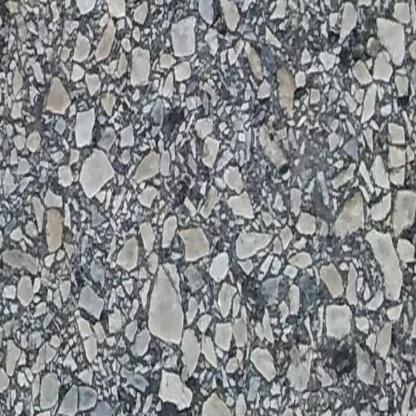Cracks: (0, 0, 17, 57)
